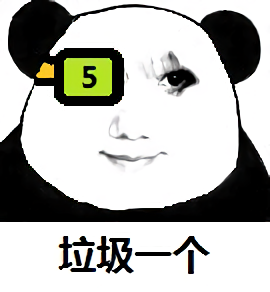dragon: (96, 66, 202, 167)
